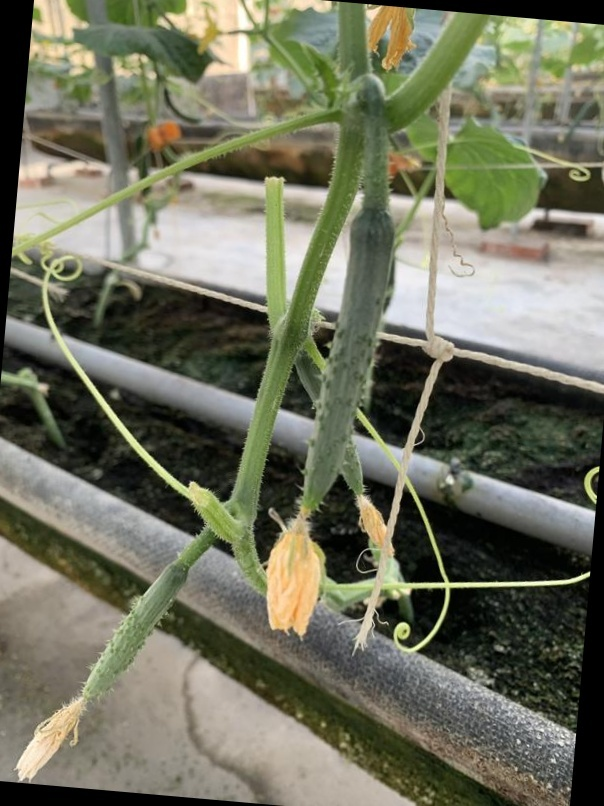bear: (0, 550, 210, 786)
growth: (255, 205, 397, 594)
